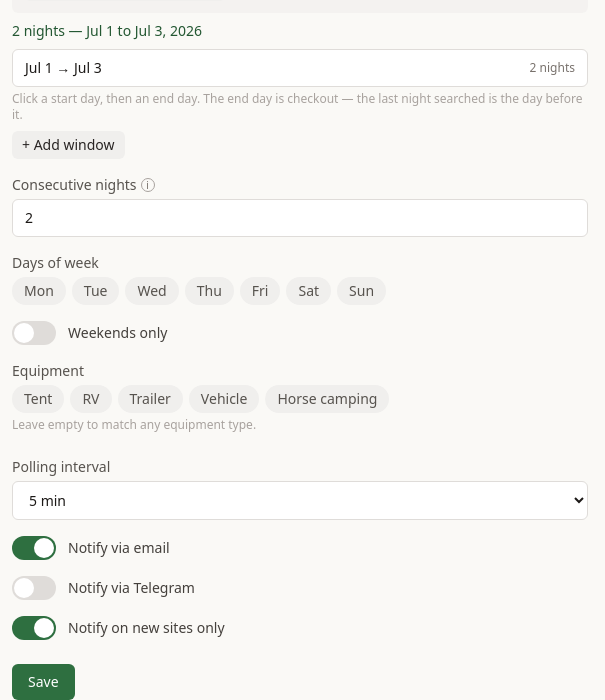
SettingsTab › shows 'Save failed' and does not throw when PATCH returns 500
(page scrolled)
Click the button "Save" at [43, 682], box [12,664,75,699]
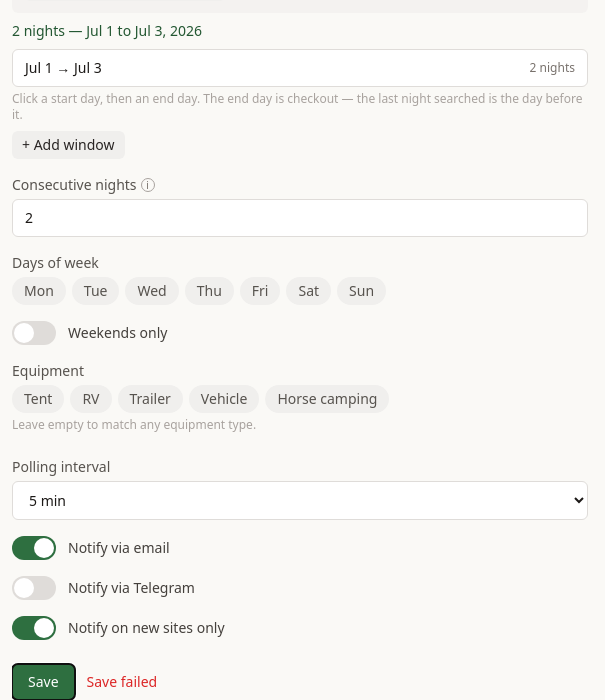
Now the text "Save failed" is shown, box [87,672,157,692]
